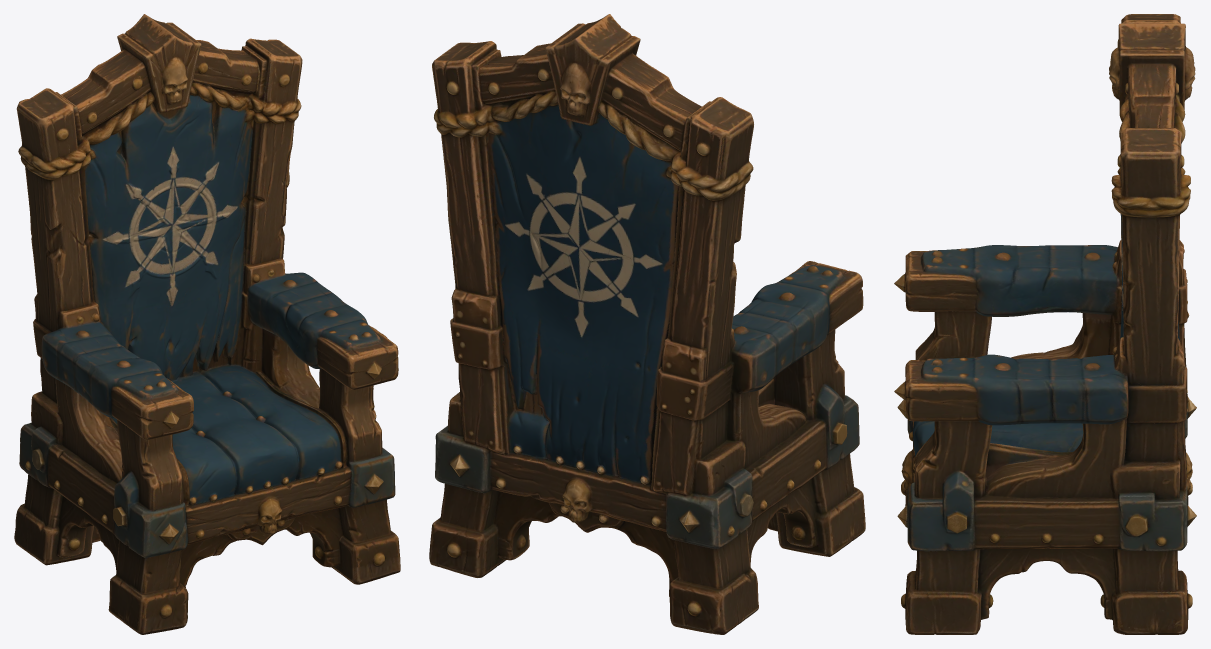
The model's file is chair_4.glb.
3 renders of one model, left to right at view 1: azimuth 30°, elevation 25°; view 2: azimuth 150°, elevation 25°; view 3: azimuth 270°, elevation 25°, orthographic. The views are drawn at different scales.
Size of the model in its own units: 1.06 by 1.9 by 0.9573.
1 material, 1 textured.
